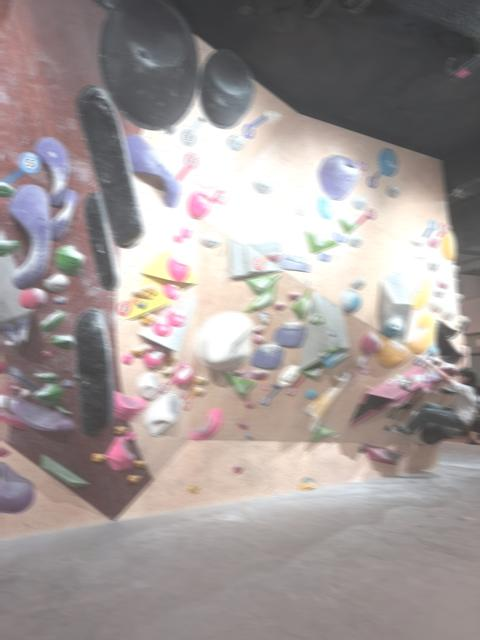crimp: (273, 322, 306, 347), (305, 231, 338, 252), (281, 257, 310, 271), (338, 218, 358, 233), (283, 252, 304, 262), (259, 344, 279, 352), (180, 226, 191, 238), (332, 232, 345, 242), (317, 251, 329, 261), (173, 232, 183, 242), (135, 300, 146, 308)
downhold: (43, 273, 68, 292), (200, 232, 220, 248), (227, 134, 245, 151), (253, 178, 270, 193), (347, 234, 362, 247), (351, 196, 366, 209), (350, 276, 365, 289), (386, 184, 399, 197), (428, 259, 439, 272)
jib: (91, 452, 107, 462), (113, 426, 127, 435), (187, 484, 200, 493), (127, 474, 141, 482), (133, 459, 146, 467), (232, 466, 243, 473), (41, 351, 51, 357), (237, 422, 247, 428)
jug: (8, 184, 52, 289), (124, 135, 180, 207), (34, 136, 69, 206), (50, 190, 78, 240), (55, 245, 84, 274), (33, 382, 63, 406), (187, 191, 210, 218), (40, 310, 65, 331), (360, 331, 382, 354), (0, 322, 19, 346), (15, 316, 30, 344), (133, 282, 157, 298), (299, 363, 323, 378), (51, 334, 75, 348), (0, 240, 20, 255), (33, 371, 59, 382), (130, 343, 149, 356), (333, 371, 349, 386), (140, 312, 156, 326), (410, 236, 426, 246), (191, 386, 205, 396), (193, 374, 207, 384)
ledge: (198, 49, 253, 128), (7, 396, 76, 432), (317, 154, 360, 199), (40, 454, 88, 486), (403, 314, 437, 353), (376, 338, 412, 368), (105, 436, 135, 469), (244, 284, 275, 312), (245, 274, 280, 294), (136, 372, 158, 399), (166, 256, 188, 281), (172, 362, 194, 386), (412, 278, 429, 309), (142, 347, 165, 368)
pocket: (193, 142, 236, 188), (376, 148, 398, 176), (381, 318, 403, 335)
sidepull: (76, 86, 144, 247), (73, 308, 114, 435), (83, 191, 118, 289), (189, 407, 222, 439), (291, 289, 310, 320)
sloper: (98, 0, 198, 129), (195, 311, 253, 369), (295, 187, 332, 232), (340, 291, 361, 312)
tape: (2, 152, 40, 184), (181, 117, 204, 146), (175, 152, 197, 181), (243, 112, 267, 138), (116, 297, 139, 316), (259, 385, 280, 405), (286, 376, 306, 394), (356, 208, 375, 224), (366, 170, 382, 188), (208, 189, 227, 204), (348, 365, 369, 378), (422, 219, 437, 237), (157, 379, 174, 394), (252, 256, 270, 270), (182, 394, 194, 410), (413, 354, 428, 366), (178, 386, 190, 398), (356, 158, 367, 171), (261, 379, 272, 391), (241, 366, 252, 378), (438, 223, 447, 236)
undercling: (143, 392, 182, 434), (223, 372, 256, 395)
volume: (348, 363, 435, 426), (300, 291, 350, 364), (137, 296, 197, 350), (376, 269, 412, 346), (304, 380, 349, 435), (126, 278, 179, 319), (227, 238, 280, 278), (140, 251, 197, 286)
